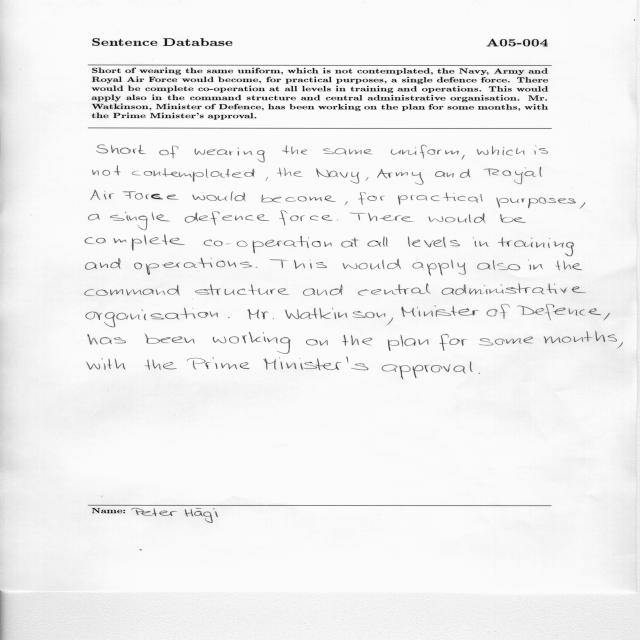word: (86, 308, 218, 327), (204, 236, 332, 253), (134, 258, 252, 275), (285, 308, 393, 325), (441, 283, 586, 295), (132, 168, 254, 182), (213, 332, 290, 354), (85, 235, 185, 251), (497, 237, 574, 256), (264, 357, 369, 370), (517, 305, 601, 321), (185, 211, 270, 226), (382, 365, 466, 380), (398, 192, 483, 205), (110, 212, 170, 230), (195, 148, 265, 163), (85, 285, 179, 296), (195, 284, 289, 295), (483, 167, 542, 184), (544, 331, 617, 344), (412, 259, 466, 276), (391, 145, 459, 158), (496, 197, 576, 208), (358, 284, 430, 296), (187, 357, 249, 370), (279, 211, 332, 226), (377, 169, 424, 185), (417, 305, 479, 317), (316, 168, 359, 184), (388, 335, 429, 351), (343, 259, 401, 270), (408, 236, 460, 248), (269, 259, 327, 269), (350, 213, 414, 222), (429, 213, 486, 223), (145, 333, 195, 344), (193, 192, 246, 202), (261, 195, 336, 202), (122, 191, 179, 200), (479, 337, 533, 346), (477, 146, 525, 156), (303, 284, 343, 296), (439, 334, 467, 351), (87, 358, 126, 370), (97, 145, 146, 154), (477, 260, 520, 270), (86, 258, 121, 270), (88, 334, 126, 345), (145, 359, 177, 370), (358, 192, 385, 205), (323, 148, 373, 155), (487, 304, 510, 319), (342, 335, 372, 346), (435, 169, 470, 178), (93, 166, 121, 176), (555, 261, 582, 271), (247, 309, 274, 319), (282, 145, 307, 155), (160, 146, 179, 159), (277, 168, 303, 177), (500, 214, 526, 223), (91, 190, 114, 200), (368, 236, 388, 247), (341, 238, 359, 248), (529, 259, 544, 270), (473, 237, 489, 247), (306, 339, 328, 346), (534, 145, 548, 155), (402, 307, 416, 317), (470, 361, 480, 374), (89, 214, 100, 220), (603, 313, 610, 321), (616, 342, 623, 349), (580, 202, 585, 209), (461, 155, 465, 160), (265, 177, 268, 181), (366, 177, 369, 181), (344, 202, 348, 205), (256, 267, 258, 268), (337, 220, 338, 221), (228, 317, 229, 318)
